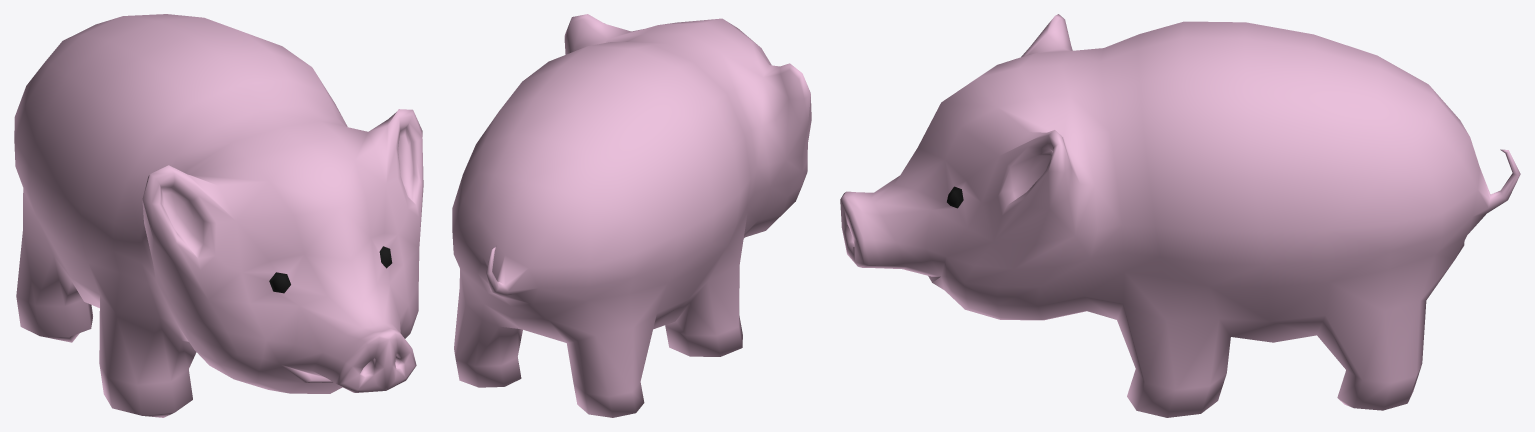
The picture shows the model from 3 angles, left to right: view 1: azimuth 30°, elevation 25°; view 2: azimuth 150°, elevation 25°; view 3: azimuth 270°, elevation 25°; orthographic projection. The views are drawn at different scales.
Visible parts, largest first — view 1: pig_toy; view 2: pig_toy; view 3: pig_toy.
Part boxes in pixels (box(x1,y1,x2,y2)): pig_toy: box(14, 14, 423, 417); pig_toy: box(452, 14, 811, 417); pig_toy: box(840, 14, 1520, 417).
Size of the model in its own units: 0.2292 by 0.256 by 0.4749.
